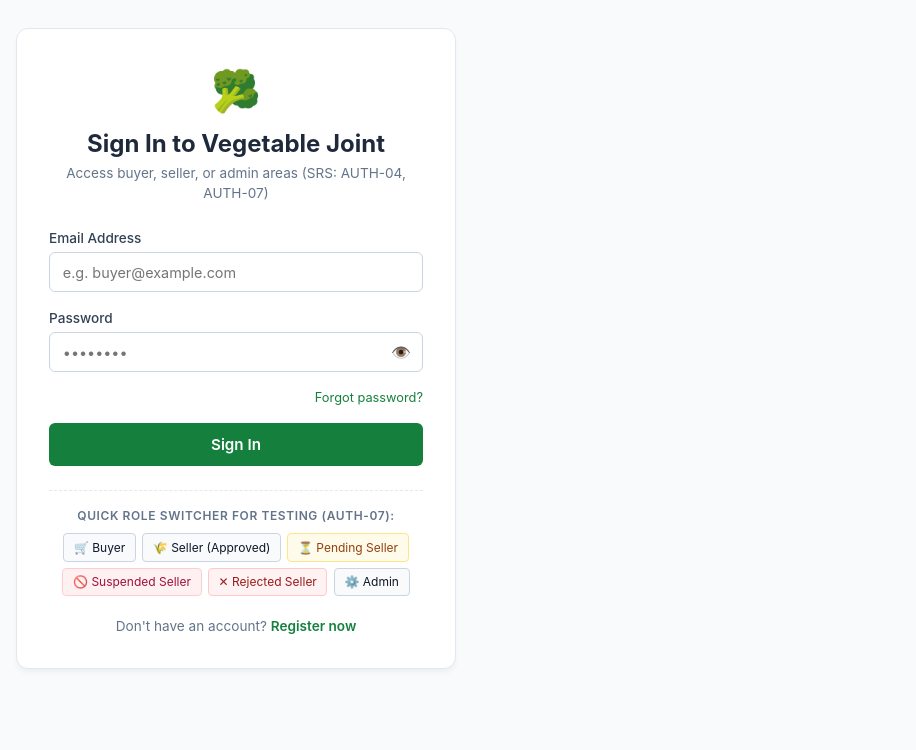
Login throttling & suspended messages (FE-066 / AUTH-09, AUTH-12) › Suspended / deactivated accounts (AUTH-12, TC-30) › blocks a suspended buyer with a friendly message and no session
Type "suspended@example.ng" into the field with test id "login-email-input". click: (236, 272)
box: [49,252,423,292]
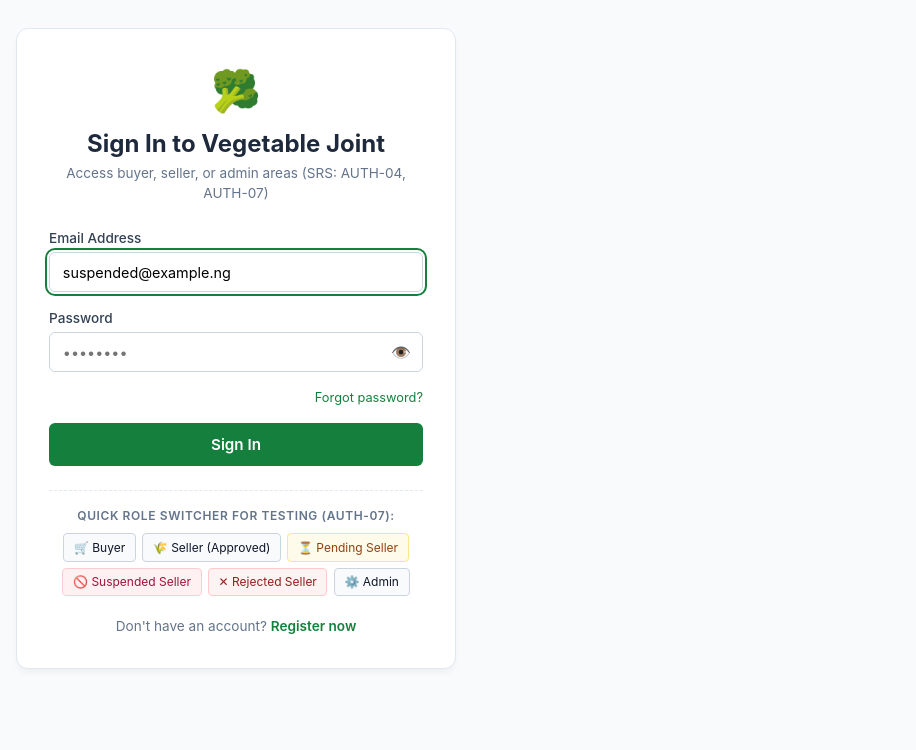
Type "password123" into the password field with test id "login-password-input". click: (236, 352)
box: [49,332,423,372]
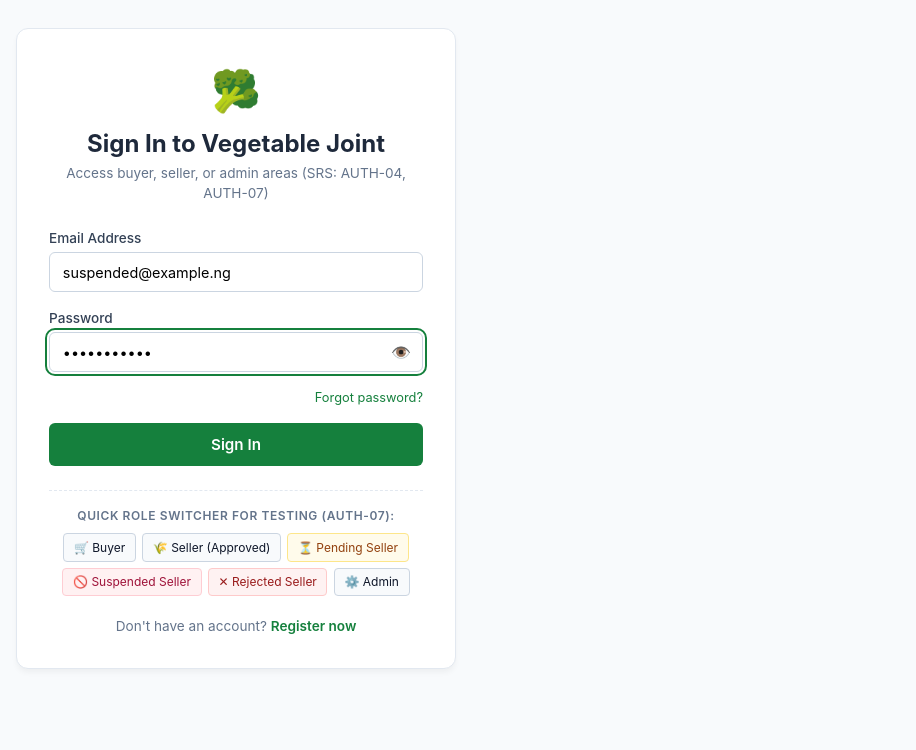
Click the button with test id "login-submit-btn". click: (236, 445)
box: [49,423,423,466]
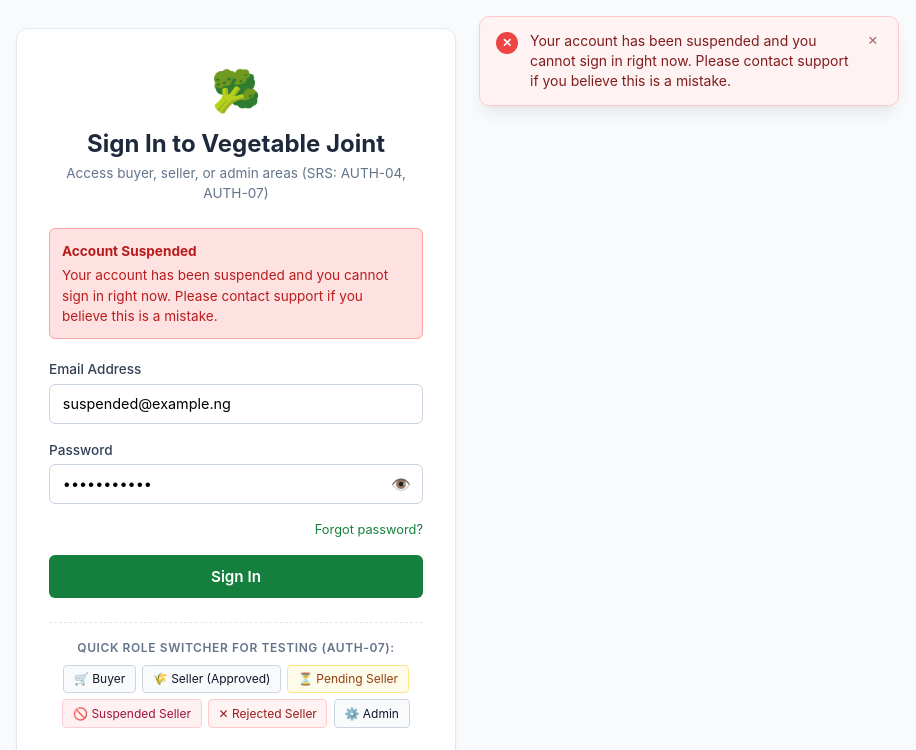
Check: the heading "Sign In to Vegetable Joint" is shown, box [87,129,385,158]
Check: the message with test id "login-error-message" shows "Suspended", box [62,243,197,259]
Check: the text with test id "login-error-title" reads "Account Suspended", box [62,243,197,259]
